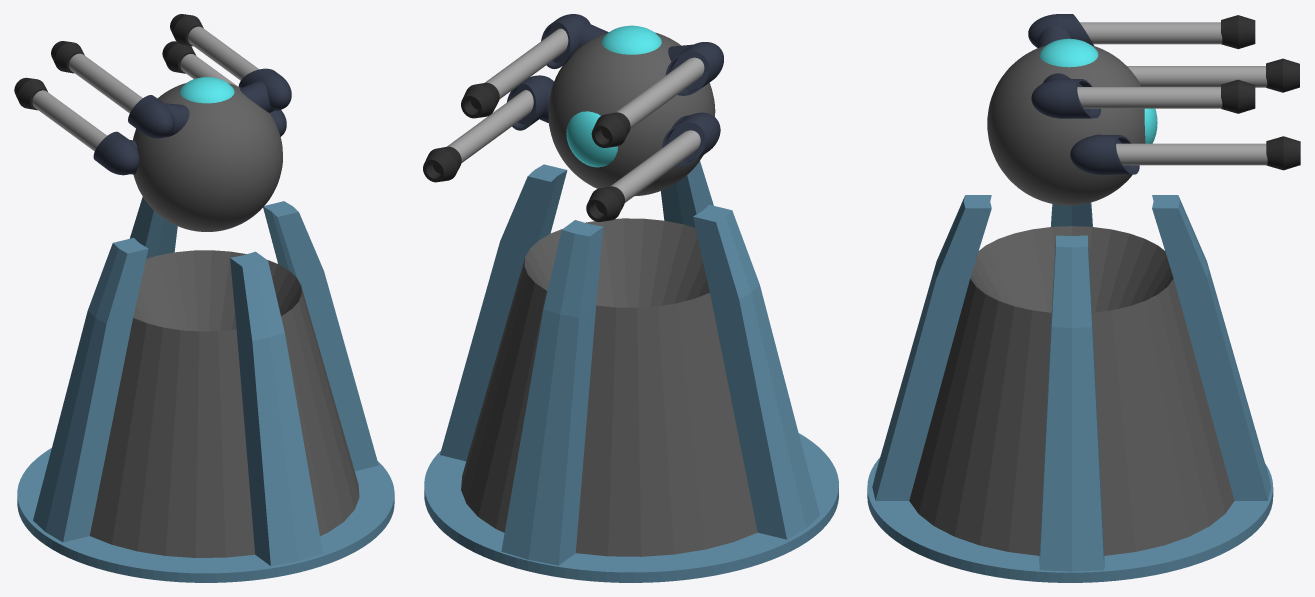
The model's file is NormalTower.fbx.
3 renders of one model, left to right at view 1: azimuth 30°, elevation 25°; view 2: azimuth 150°, elevation 25°; view 3: azimuth 270°, elevation 25°, orthographic. The views are drawn at different scales.
Parts seen in each view (by area): view 1: Base, Body, BasePlatform, Barrel, Barrel.001, Barrel.002, GunHolder.002, GunHolder.001, TopEye, GunHolder.003, Barrel.003, BarrelEnd (+4 smaller); view 2: Base, BasePlatform, Body, Barrel, Barrel.001, Barrel.003, Barrel.002, MiddleEye, GunHolder.001, GunHolder.002, TopEye, GunHolder.004 (+5 smaller); view 3: Base, Body, BasePlatform, Barrel.003, Barrel.002, Barrel.001, Barrel, GunHolder.003, GunHolder.004, TopEye, GunHolder.002, BarrelEnd.001 (+3 smaller).
Boxes of the visible parts, <box> form: Base: <box>33,197,378,565</box>; Body: <box>133,83,282,231</box>; BasePlatform: <box>17,448,394,582</box>; Barrel: <box>32,90,106,151</box>; Barrel.001: <box>69,53,142,113</box>; Barrel.002: <box>188,26,258,80</box>; GunHolder.002: <box>128,95,174,138</box>; GunHolder.001: <box>93,131,139,175</box>; TopEye: <box>179,77,234,103</box>; GunHolder.003: <box>238,68,291,110</box>; Barrel.003: <box>180,54,237,86</box>; BarrelEnd: <box>14,77,47,110</box>; Base: <box>440,161,819,565</box>; BasePlatform: <box>424,433,838,582</box>; Body: <box>548,32,715,196</box>; Barrel: <box>610,130,700,202</box>; Barrel.001: <box>615,57,704,128</box>; Barrel.003: <box>447,90,533,162</box>; Barrel.002: <box>485,28,568,99</box>; MiddleEye: <box>566,111,617,167</box>; GunHolder.001: <box>662,112,720,166</box>; GunHolder.002: <box>665,42,723,95</box>; TopEye: <box>601,25,661,54</box>; GunHolder.004: <box>507,75,553,130</box>; Base: <box>872,195,1270,571</box>; Body: <box>987,45,1145,205</box>; BasePlatform: <box>867,458,1273,582</box>; Barrel.003: <box>1116,143,1267,165</box>; Barrel.002: <box>1077,87,1222,108</box>; Barrel.001: <box>1080,22,1222,44</box>; Barrel: <box>1127,66,1267,87</box>; GunHolder.003: <box>1031,78,1100,118</box>; GunHolder.004: <box>1070,135,1139,174</box>; TopEye: <box>1039,38,1098,67</box>; GunHolder.002: <box>1028,14,1093,47</box>; BarrelEnd.001: <box>1221,15,1255,49</box>.
Bounding box in the file's own units: 200 × 247 × 214.
